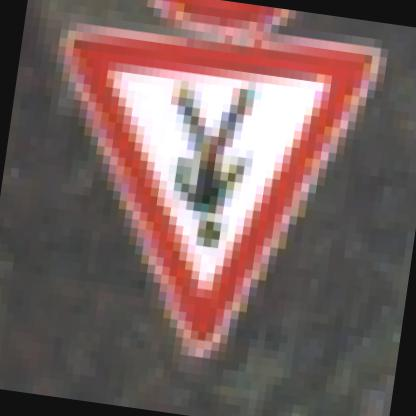crosswalk: (11, 2, 395, 400)
